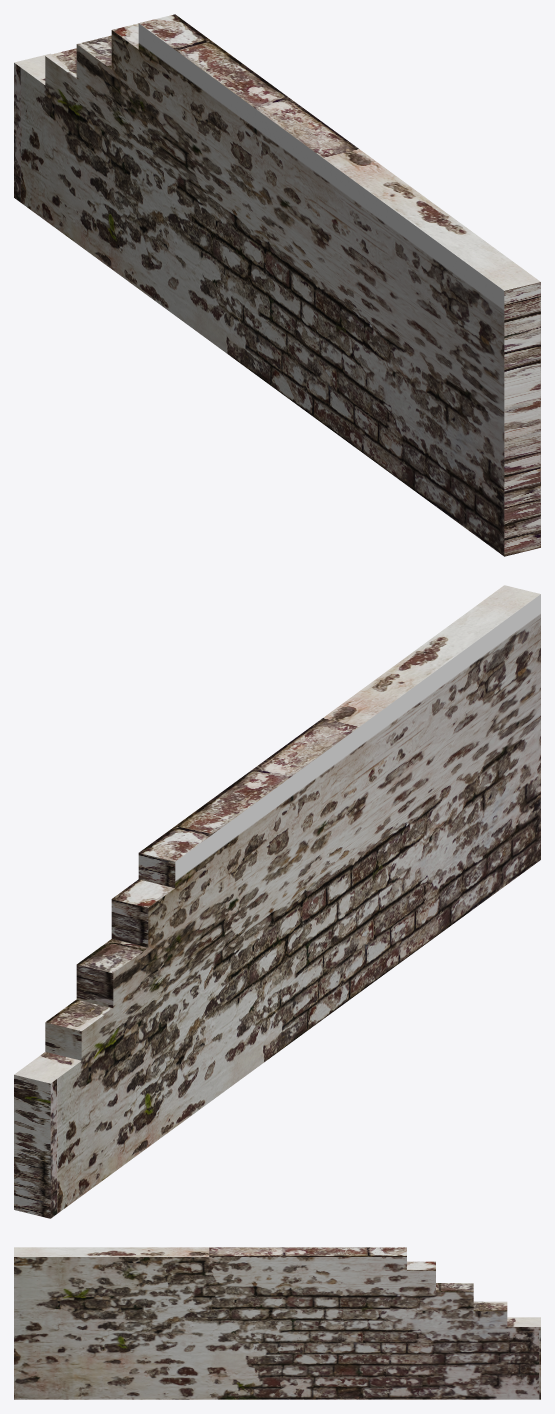
The model's file is B_Bricks.fbx.
The picture shows the model from 3 angles, top to bottom: view 1: azimuth 30°, elevation 25°; view 2: azimuth 150°, elevation 25°; view 3: azimuth 270°, elevation 25°; orthographic projection. The views are drawn at different scales.
Visible parts, largest first — view 1: pCube1; view 2: pCube1; view 3: pCube1.
Part boxes in pixels (x1,y1,x2,y2): pCube1: [14, 14, 540, 556]; pCube1: [14, 585, 540, 1218]; pCube1: [14, 1247, 540, 1399].
Bounding box in the file's own units: 0.9699 × 6.73 × 22.52.
6 materials, 5 textured.
